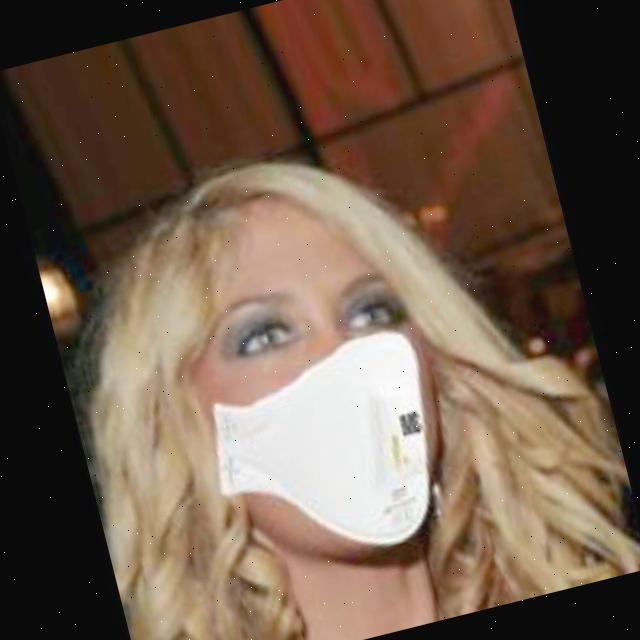suspicion: (86, 130, 532, 633)
